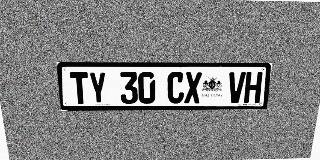0: (138, 72, 155, 104)
3: (120, 72, 138, 104)
C: (167, 72, 184, 104)
H: (243, 72, 263, 103)
T: (70, 72, 89, 104)
V: (227, 72, 246, 103)
X: (184, 72, 202, 103)
Y: (88, 72, 107, 104)
